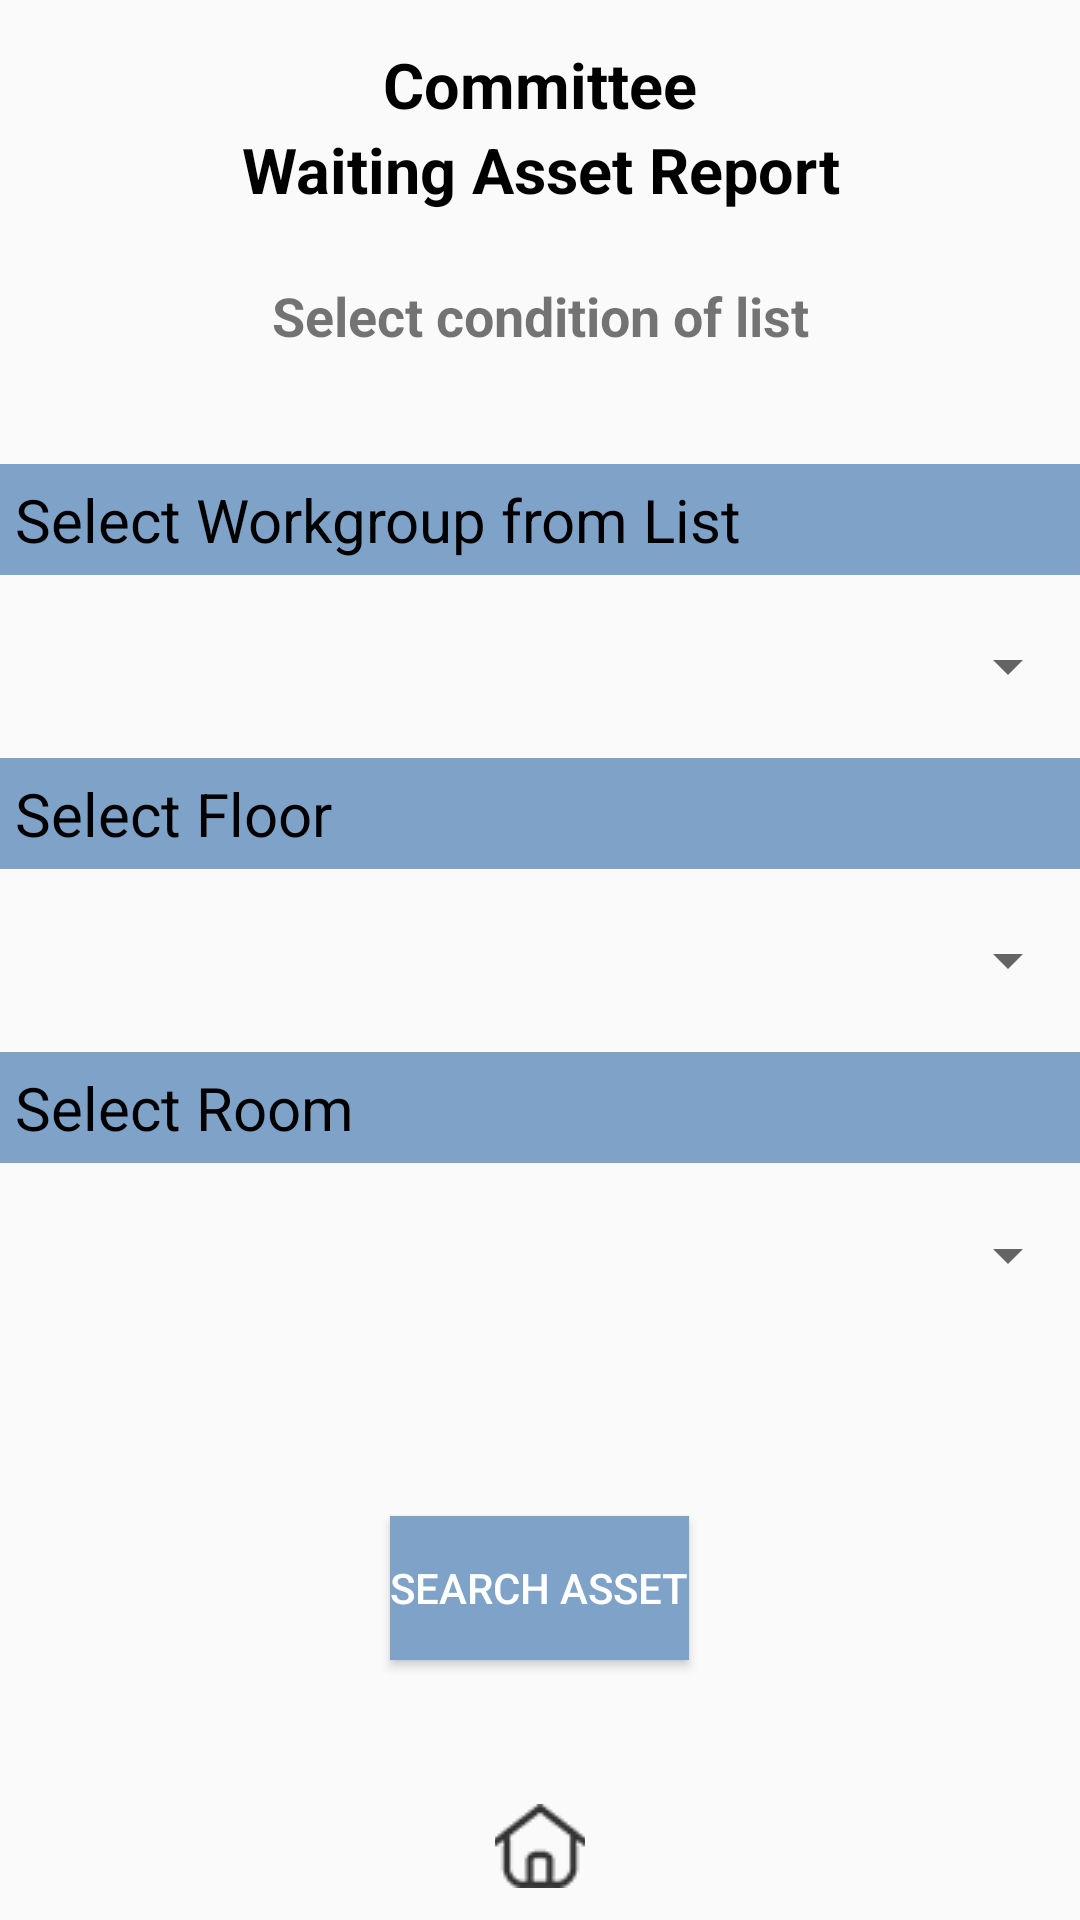

Icon bounding boxes for this 1080px x 1920px phone screenshot, format (x1, y1, x2, y2):
home: (495, 1804, 585, 1888)
